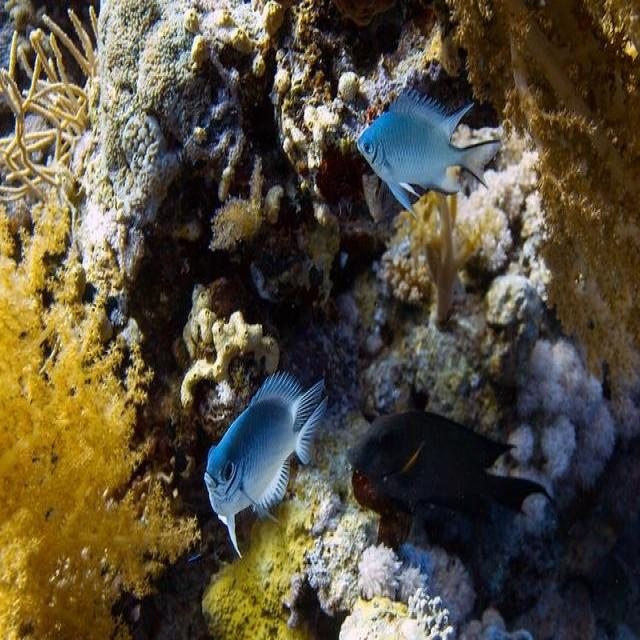fish: (345, 412, 554, 552), (204, 371, 329, 559), (357, 77, 502, 219)
reefs: (392, 0, 639, 419), (0, 193, 201, 639), (0, 1, 289, 281), (202, 410, 533, 638), (373, 123, 551, 331), (475, 338, 616, 593)
